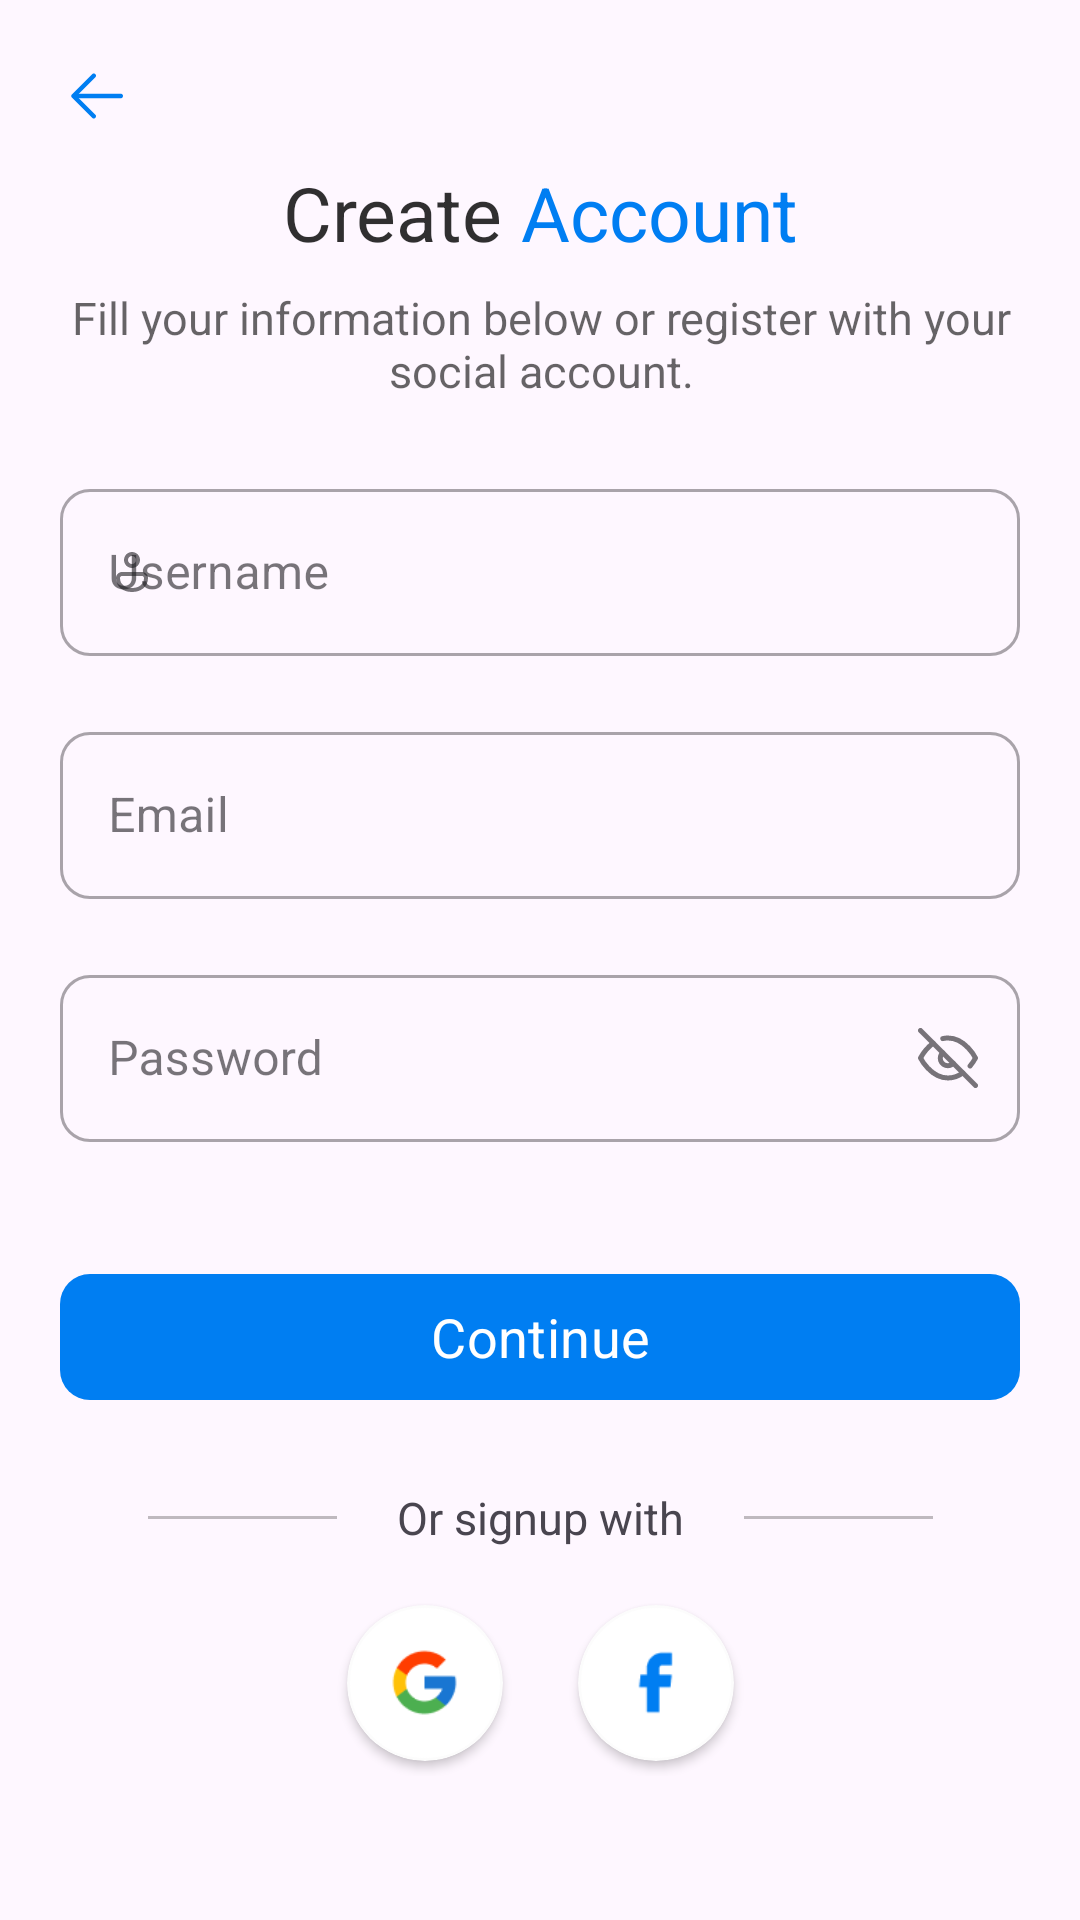

Icons on this 1080 x 1920 Android screen, each with its box as (x1, y1, x2, y2):
back: (71, 73, 123, 119)
